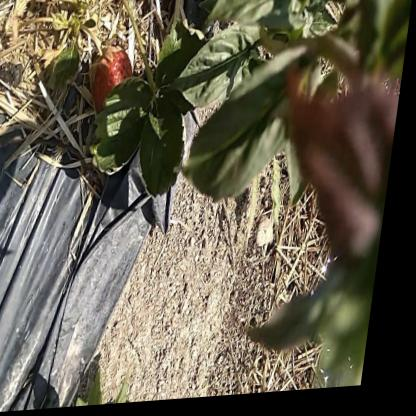ripe: (86, 46, 143, 122)
